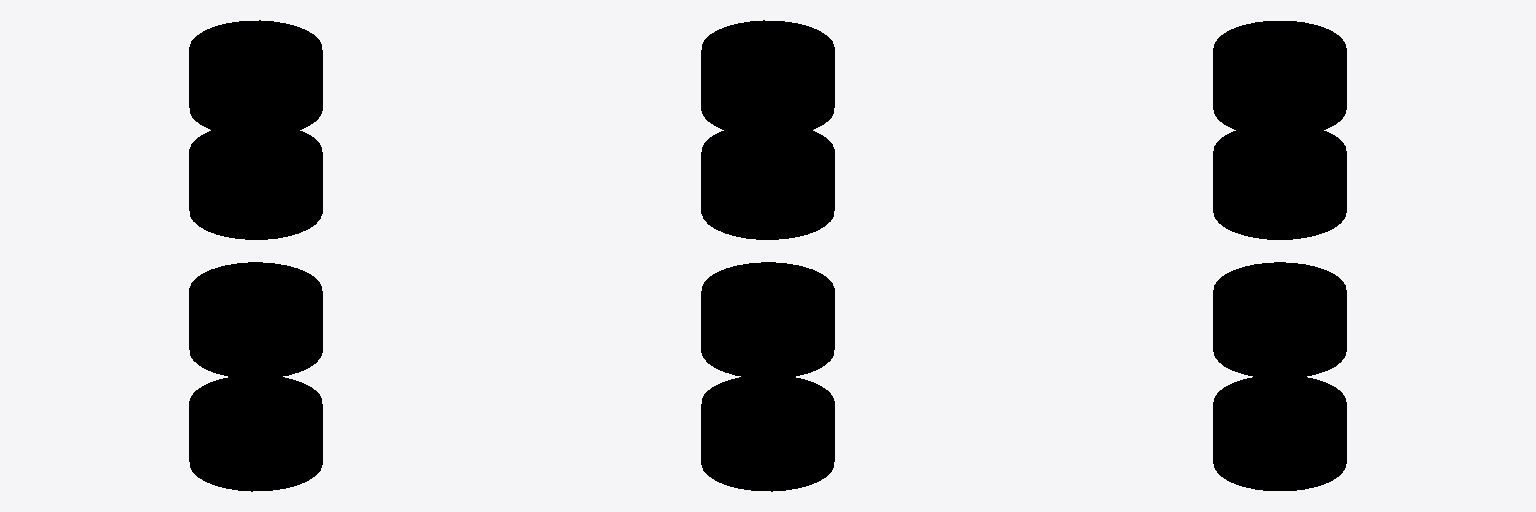
robot.urdf — steren:
<?xml version="1.0"?>

<robot name="steren">

    <link name="world" />

    <link name="link1">
        <visual>
            <geometry>
                <cylinder length="0.05" radius="0.05"/>
            </geometry>
            <material name="black">
                <color rgba="0 0 0 1"/>
            </material>
        </visual>
    </link>

    <link name="link2" >
        <visual>
            <geometry>
                <cylinder length="0.05" radius="0.05"/>
            </geometry>
            <material name="black">
                <color rgba="0 0 0 1"/>
            </material>
        </visual>
    </link>
    
    <link name="link3">
        <visual>
            <geometry>
                <cylinder length="0.05" radius="0.05"/>
            </geometry>
            <material name="black">
                <color rgba="0 0 0 1"/>
            </material>
        </visual>
    </link>
    
    <link name="link4">
        <visual>
            <geometry>
                <cylinder length="0.05" radius="0.05"/>
            </geometry>
            <material name="black">
                <color rgba="0 0 0 1"/>
            </material>
        </visual>
    </link>

    <joint name="joint1" type="revolute">
        <parent link="world"/>
        <child link="link1"/>
        <origin rpy="0 0 0" xyz="0 0 0.07"/>
        <limit effort="1000" lower="-1.56" upper="1.56" velocity="10"/>
    </joint>

    <joint name="joint2" type="revolute">
        <parent link="link1"/>
        <child link="link2"/>
        <axis xyz="1 0 0"/>
        <origin rpy="0 0 0" xyz="0 0 0.093"/>
        <limit effort="1000" lower="-1.56" upper="1.56" velocity="10"/>
    </joint>
    
    <joint name="joint3" type="revolute">
        <parent link="link2"/>
        <child link="link3"/>
        <axis xyz="1 0 0"/>
        <origin rpy="0 0 0" xyz="0 0 0.115"/>
        <limit effort="1000" lower="-1.56" upper="1.56" velocity="10"/>
    </joint>

    <joint name="joint4" type="revolute">
        <parent link="link3"/>
        <child link="link4"/>
        <axis xyz="0 1 0"/>
        <origin rpy="0 0 0" xyz="0 0 0.085"/>\
        <limit effort="1000" lower="-1.56" upper="1.56" velocity="10"/>
    </joint>

</robot>

--- Render facts (derived) ---
The picture shows the robot from 3 angles, left to right: view 1: azimuth 30°, elevation 25°; view 2: azimuth 150°, elevation 25°; view 3: azimuth 270°, elevation 25°; orthographic projection.
Model steren with 5 links and 4 joints (4 revolute), rooted at world, posed all joints at 0.
Links seen in each view (by area): view 1: link2, link4, link1, link3; view 2: link2, link4, link1, link3; view 3: link2, link4, link1, link3.
Boxes of the visible links, <box> form: link2: <box>189,262,322,378</box>; link4: <box>189,20,322,136</box>; link1: <box>189,377,322,491</box>; link3: <box>189,130,322,239</box>; link2: <box>701,262,834,378</box>; link4: <box>701,20,834,136</box>; link1: <box>701,377,834,491</box>; link3: <box>701,130,834,239</box>; link2: <box>1213,262,1346,378</box>; link4: <box>1213,21,1346,136</box>; link1: <box>1213,377,1346,490</box>; link3: <box>1213,130,1346,239</box>.
Size in the robot's own frame: 0.1 by 0.1 by 0.343 metres.
Geometry: primitives only (box / cylinder / sphere), no mesh files.
